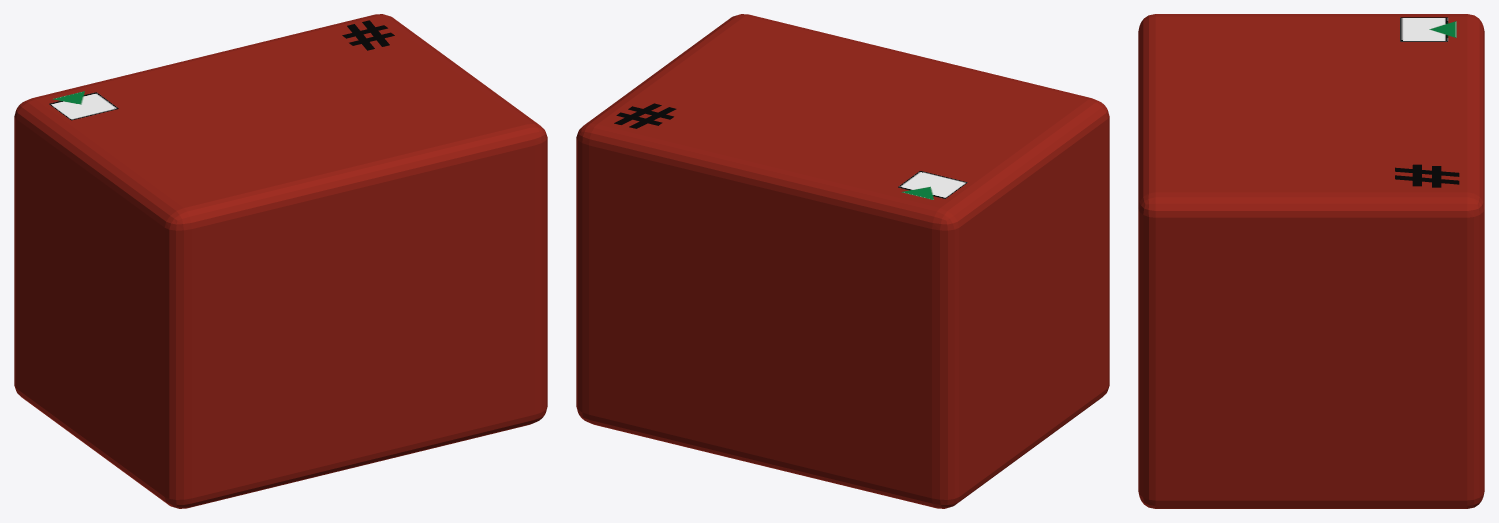
The model's file is RState_Highlight_Hashtag.dae.
3 views of the same model, side by side, from view 1: azimuth 30°, elevation 25°; view 2: azimuth 150°, elevation 25°; view 3: azimuth 270°, elevation 25° (orthographic). The views are drawn at different scales.
Parts seen in each view (by area): view 1: Cube, Plane, Plane_001; view 2: Cube, Plane, Plane_001; view 3: Cube, Plane, Plane_001.
Part boxes in pixels (bbox=[...]): Cube: bbox=[14, 14, 547, 508]; Plane: bbox=[49, 91, 118, 120]; Plane_001: bbox=[342, 20, 394, 50]; Cube: bbox=[576, 14, 1109, 508]; Plane: bbox=[898, 171, 967, 199]; Plane_001: bbox=[614, 103, 676, 128]; Cube: bbox=[1138, 14, 1484, 508]; Plane: bbox=[1400, 17, 1456, 41]; Plane_001: bbox=[1395, 164, 1459, 187].
Size of the model in its own units: 2 by 1.5 by 1.51.
Materials: 3 (2 with a texture image).
